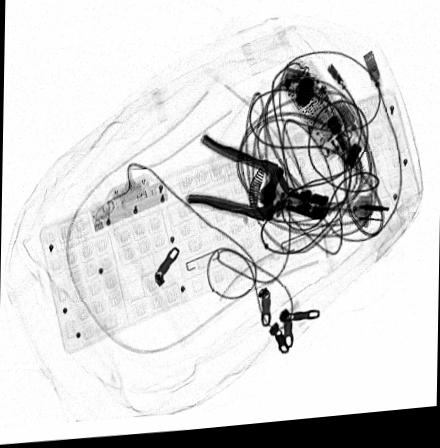Pliers: (184, 135, 329, 227)
